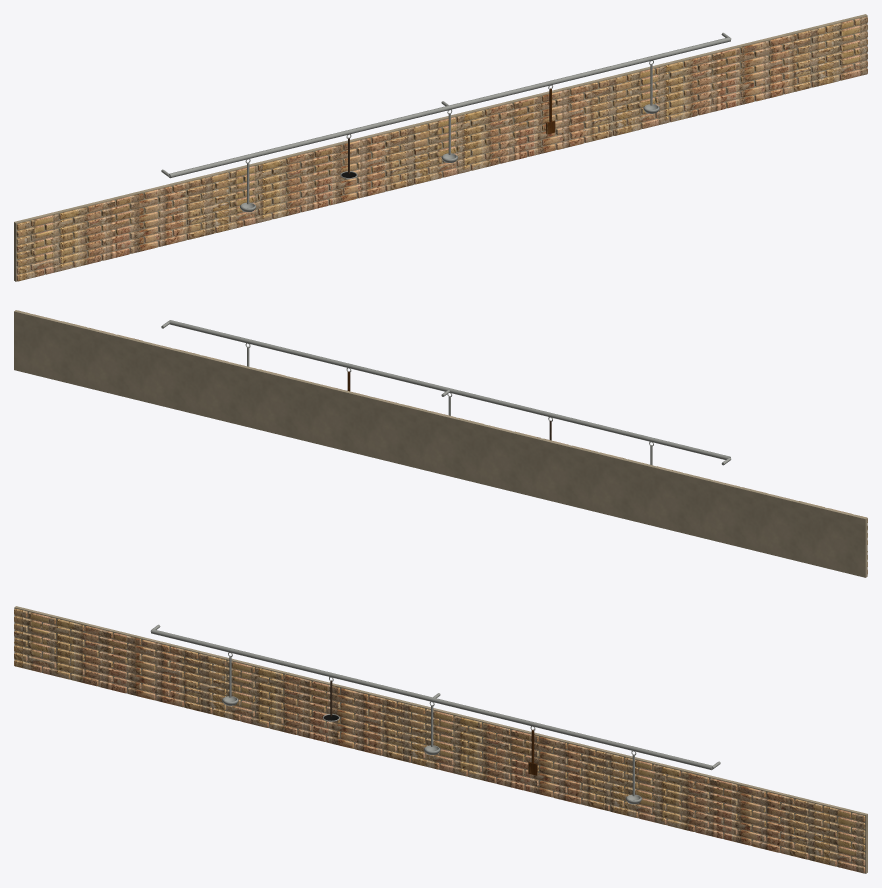
The model's file is PROP_WarmWood_Stove_Brick.glb.
3 renders of one model, top to bottom at view 1: azimuth 30°, elevation 25°; view 2: azimuth 150°, elevation 25°; view 3: azimuth 330°, elevation 25°, orthographic.
Parts seen in each view (by area): view 1: PROP_WarmWood_Stove_Brick; view 2: PROP_WarmWood_Stove_Brick; view 3: PROP_WarmWood_Stove_Brick.
Part boxes in pixels (bbox=[...]): PROP_WarmWood_Stove_Brick: bbox=[14, 14, 867, 281]; PROP_WarmWood_Stove_Brick: bbox=[14, 310, 867, 577]; PROP_WarmWood_Stove_Brick: bbox=[14, 606, 867, 873].
Size of the model in its own units: 7.6 by 0.668 by 0.22.
9 materials, 9 textured.
